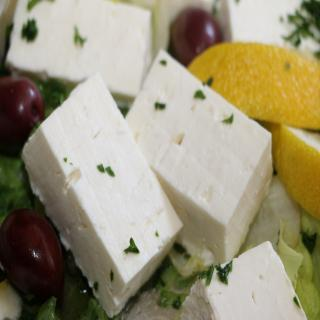Cheese: (20, 69, 185, 318), (124, 48, 274, 265), (5, 0, 154, 105), (182, 242, 309, 320)
